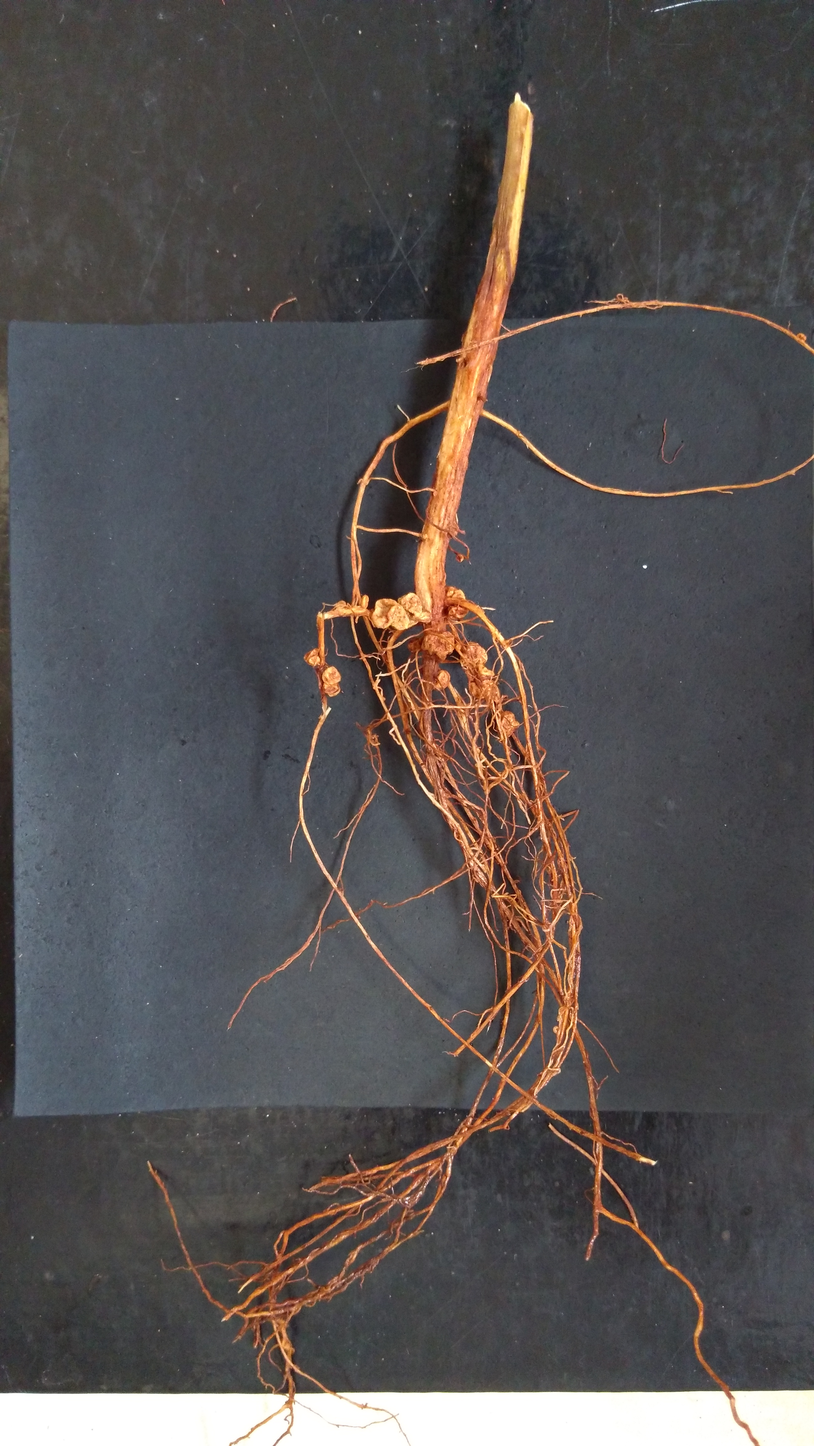nodule: (370, 596, 411, 635), (418, 630, 461, 663), (443, 581, 471, 620), (495, 707, 523, 741), (395, 589, 425, 618), (460, 640, 490, 669), (431, 668, 454, 695), (481, 680, 503, 704), (320, 666, 345, 684), (302, 647, 324, 667), (476, 663, 497, 682), (319, 681, 342, 698), (405, 635, 422, 655), (467, 681, 483, 700), (359, 592, 370, 610)
